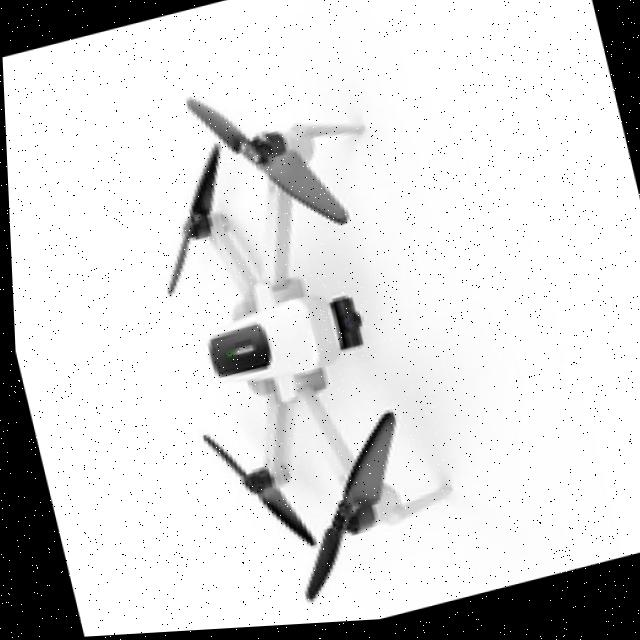drones: (67, 17, 520, 637)
